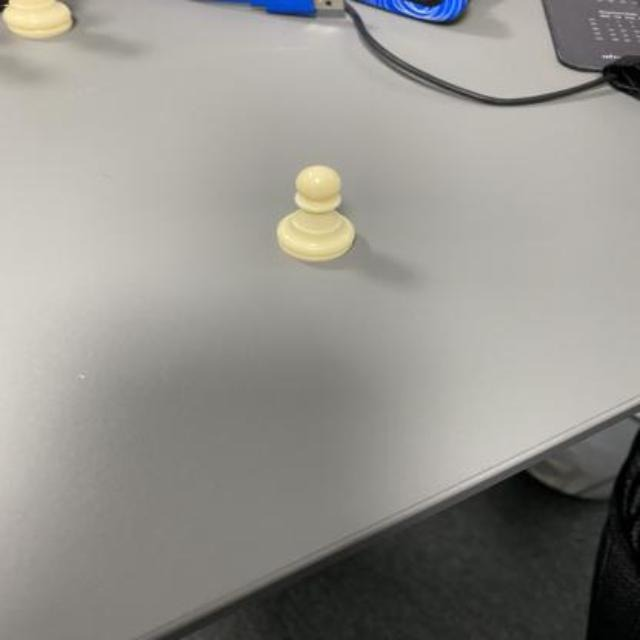white-pawn: (278, 162, 358, 262)
